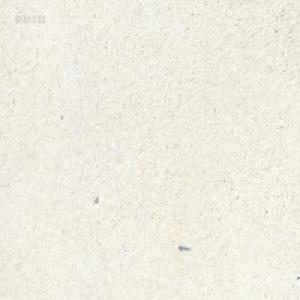Nail: (178, 241, 190, 250)
